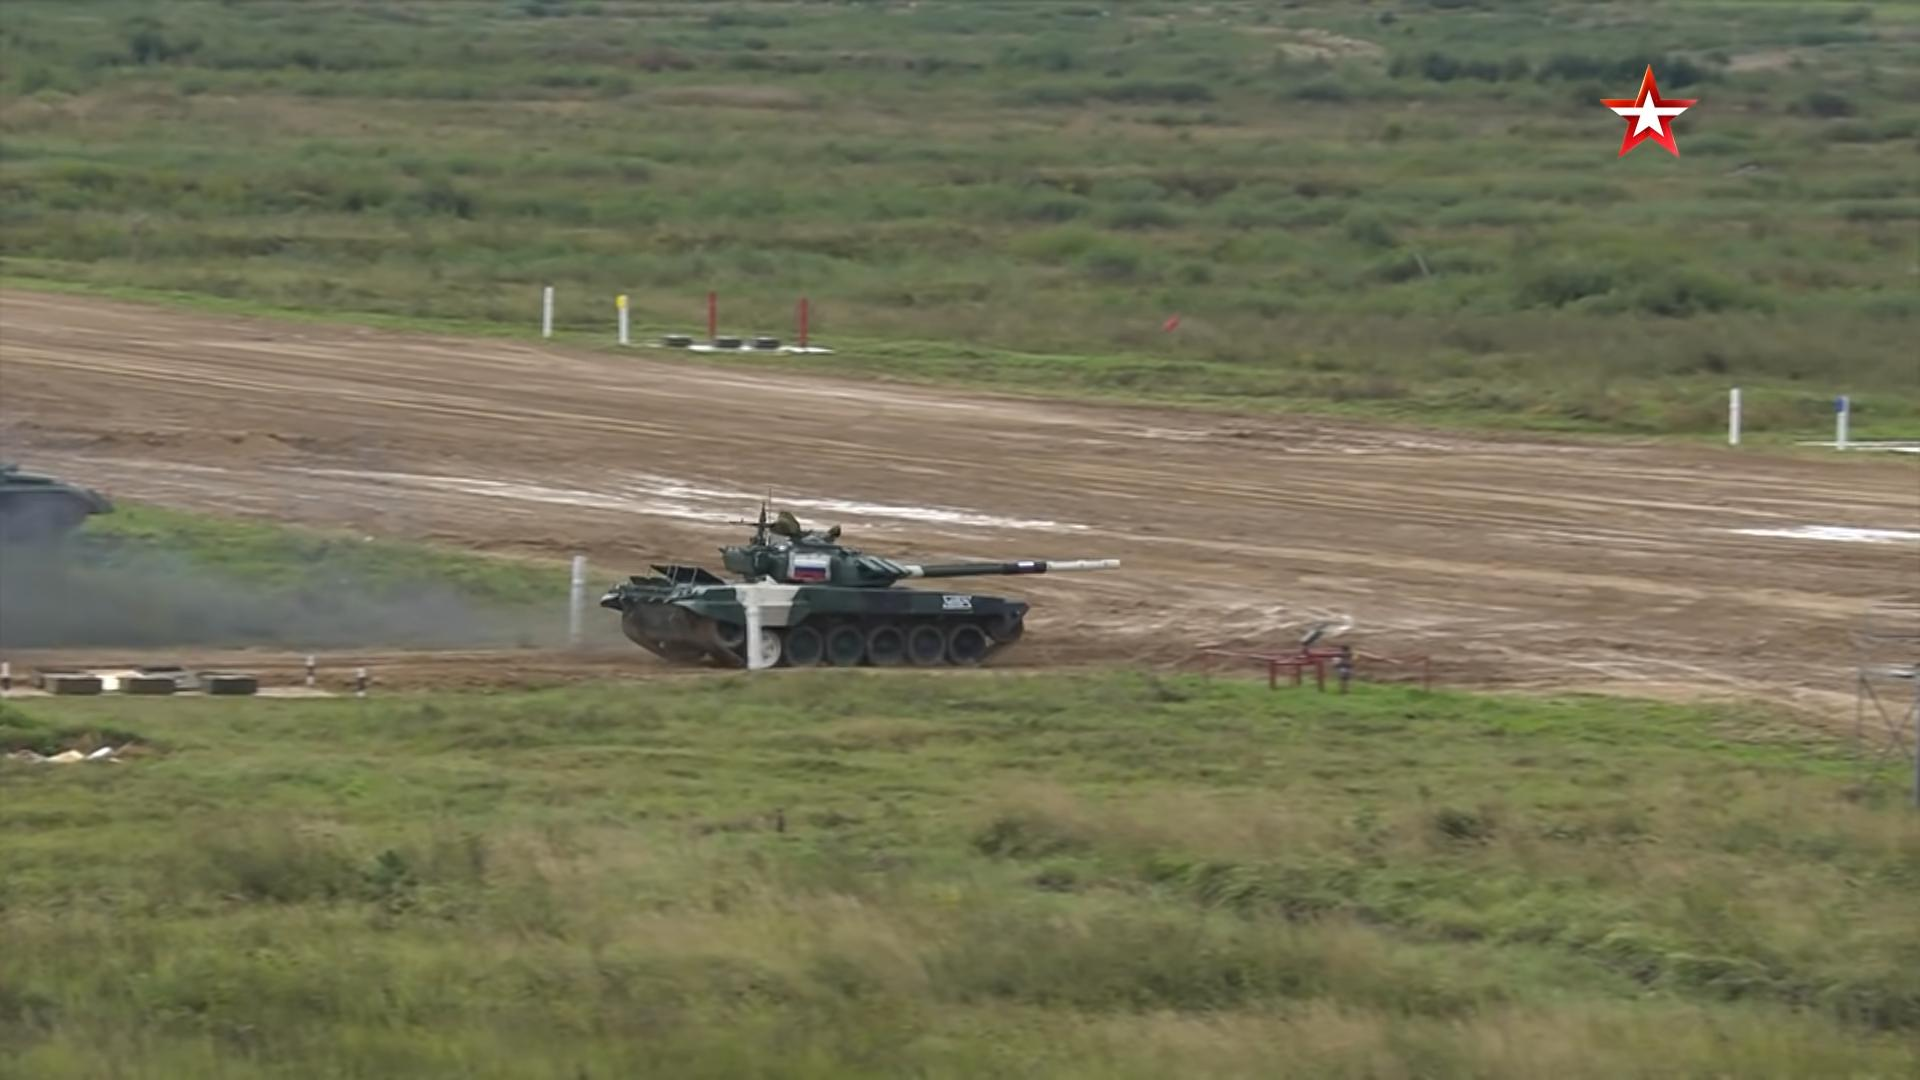tank: (600, 502, 1121, 670)
